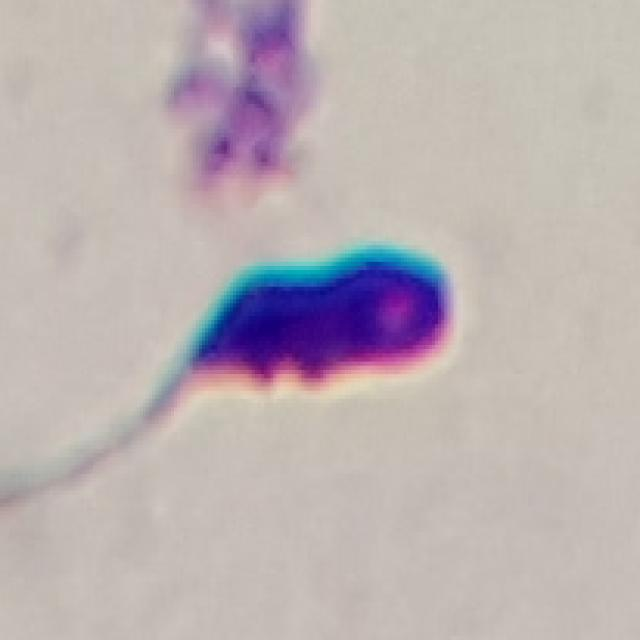abnormal sperm: (0, 242, 454, 456)
